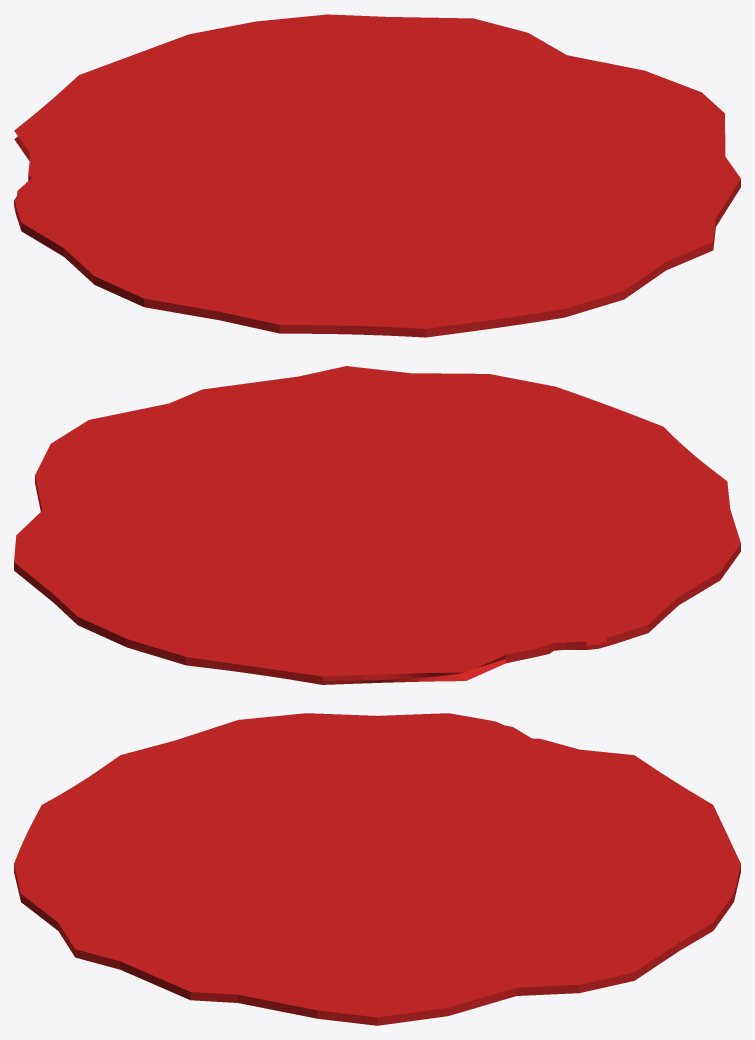
Rendered from BLOOD.fbx.
3 views of the same model, one above another, from view 1: azimuth 30°, elevation 25°; view 2: azimuth 150°, elevation 25°; view 3: azimuth 270°, elevation 25° (orthographic). The views are drawn at different scales.
Parts seen in each view (by area): view 1: Cylinder.761; view 2: Cylinder.761; view 3: Cylinder.761.
Part boxes in pixels (<box>): Cylinder.761: <box>14,14,740,337</box>; Cylinder.761: <box>14,366,740,684</box>; Cylinder.761: <box>14,713,740,1025</box>.
Size of the model in its own units: 11.88 by 0.2415 by 11.99.
